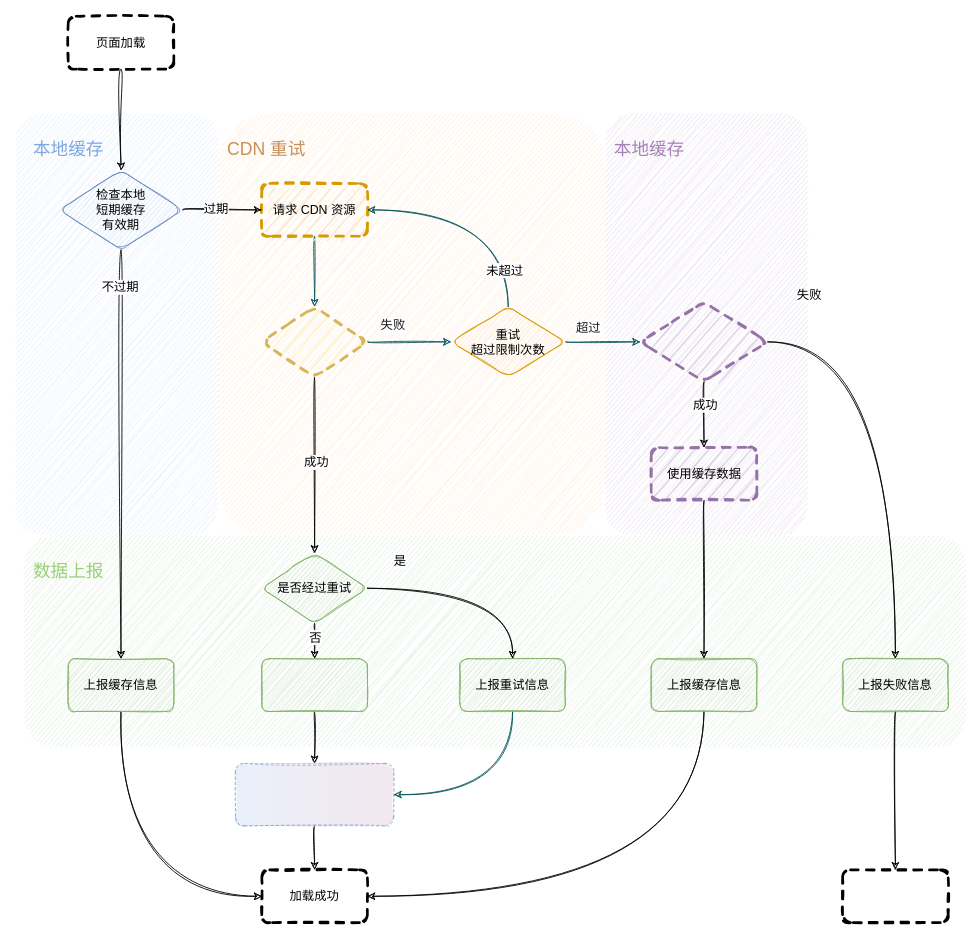
This 980x939 diagram has some shape labels left out. The shapes that lost their labels are listed below. From the top down, each one's centre as x and y in pixels, then its label:
At pixel 314 341: "CDN 请求结果".
At pixel 703 341: "读取 本地缓存 长期缓存".
At pixel 314 684: "上报加载信息".
At pixel 314 794: "更新短期缓存、长期缓存".
At pixel 895 896: "加载失败".
